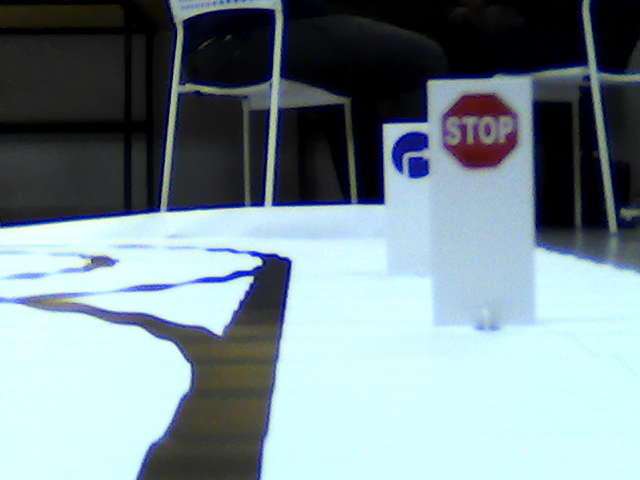Right: (390, 131, 433, 177)
Stop: (440, 95, 519, 170)
